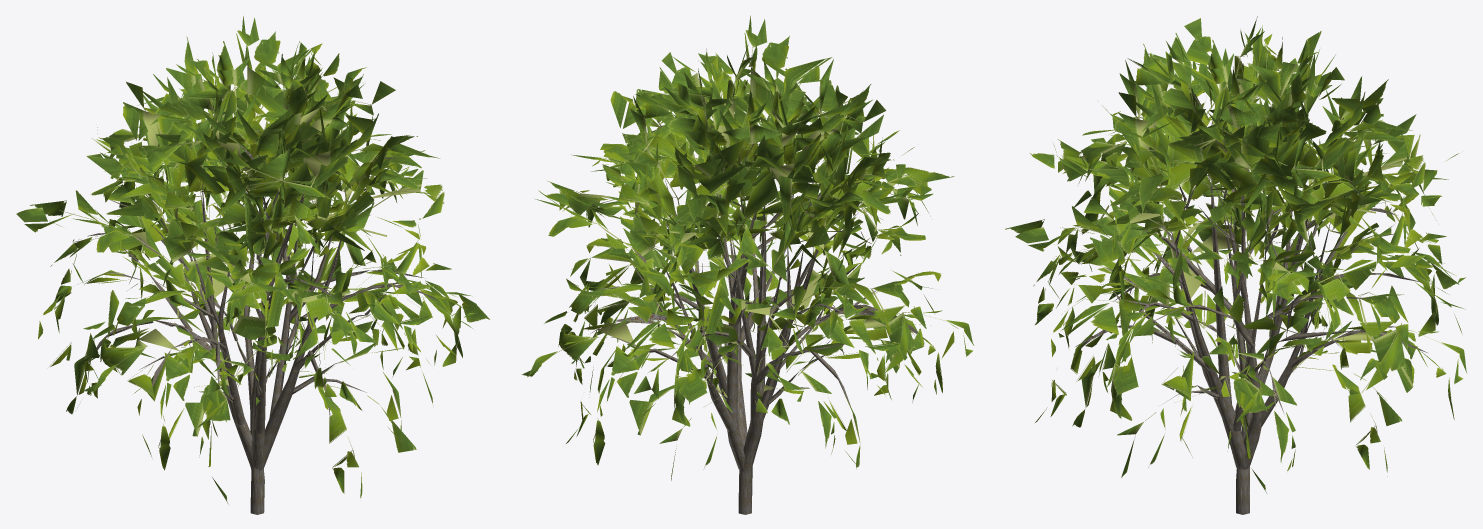
The model's file is mission-lush-tree.glb.
3 renders of one model, left to right at view 1: azimuth 30°, elevation 25°; view 2: azimuth 150°, elevation 25°; view 3: azimuth 270°, elevation 25°, orthographic. The views are drawn at different scales.
Visible parts, largest first — view 1: Mission Lush Leaves, Mission Lush Leaves Fill, Mission Lush Trunk; view 2: Mission Lush Leaves, Mission Lush Leaves Fill, Mission Lush Trunk; view 3: Mission Lush Leaves, Mission Lush Leaves Fill, Mission Lush Trunk.
Boxes of the visible parts, x1,y1,x2,y2 form: Mission Lush Leaves: (16,36,489,504); Mission Lush Leaves Fill: (73,16,456,470); Mission Lush Trunk: (87,125,438,514); Mission Lush Leaves: (521,15,958,469); Mission Lush Leaves Fill: (544,45,974,480); Mission Lush Trunk: (590,88,924,514); Mission Lush Leaves: (1030,16,1467,477); Mission Lush Leaves Fill: (1005,34,1466,493); Mission Lush Trunk: (1073,87,1428,514).
Bounding box in the file's own units: 5.77 × 6.75 × 5.85.
2 materials, 2 textured.
